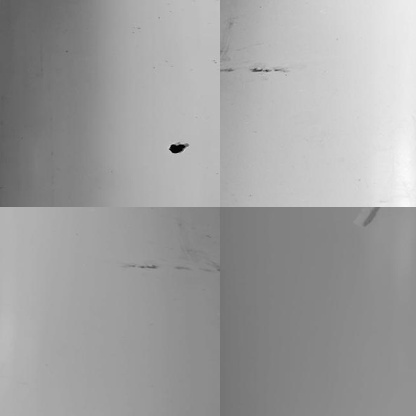kongdong: (163, 139, 194, 158)
sunshang: (351, 208, 381, 231)
